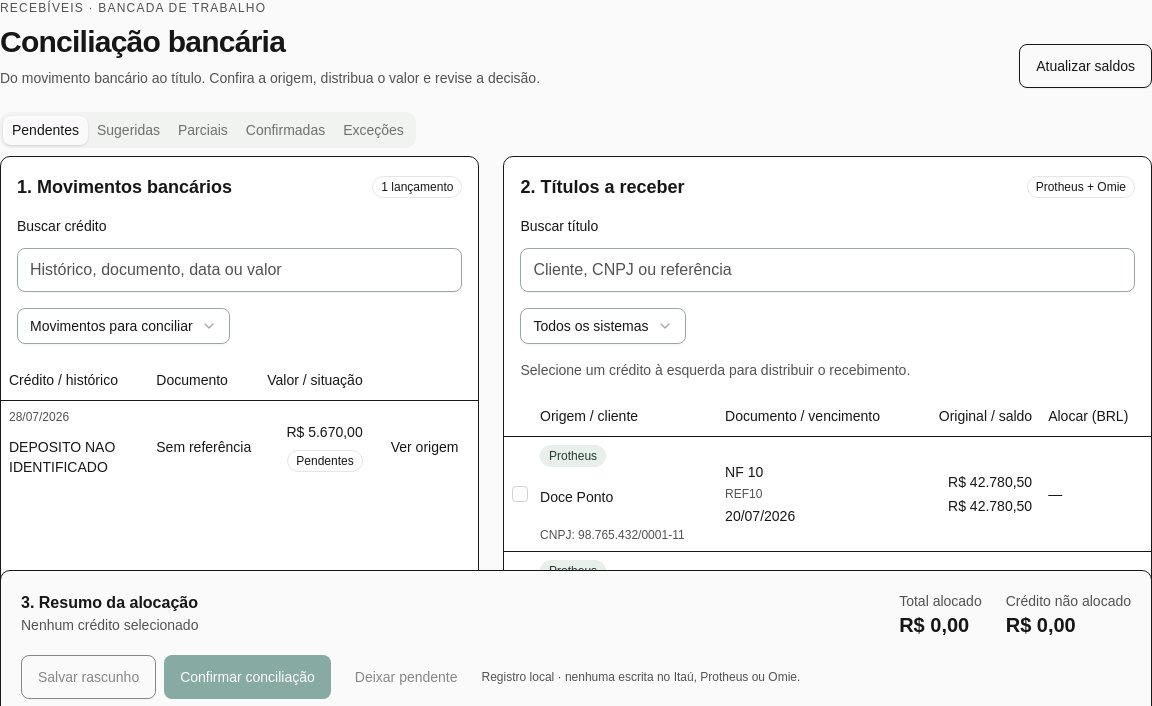
Test case: formats reconciliation details in pt-BR and preserves original evidence
Press the mouse on the tab "Sugeridas" at (128, 130), box [88, 116, 169, 144]
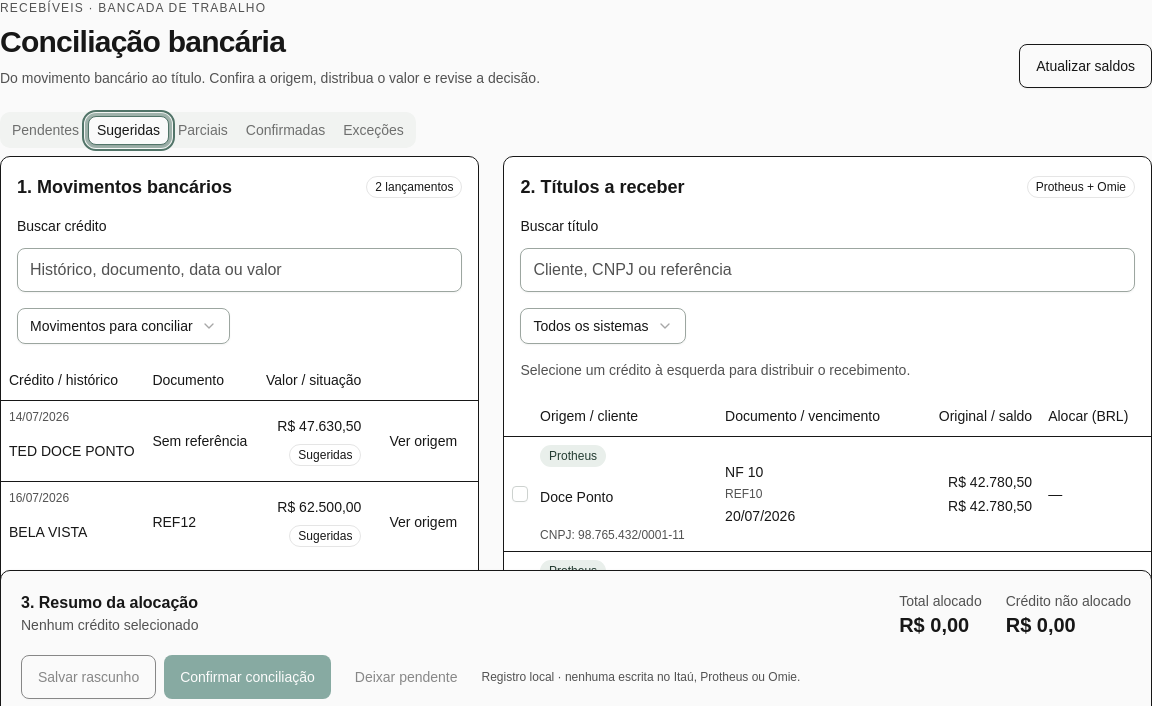
Click the button with aria-label "Detalhes de TED DOCE PONTO" at (423, 441), box [377, 419, 469, 463]
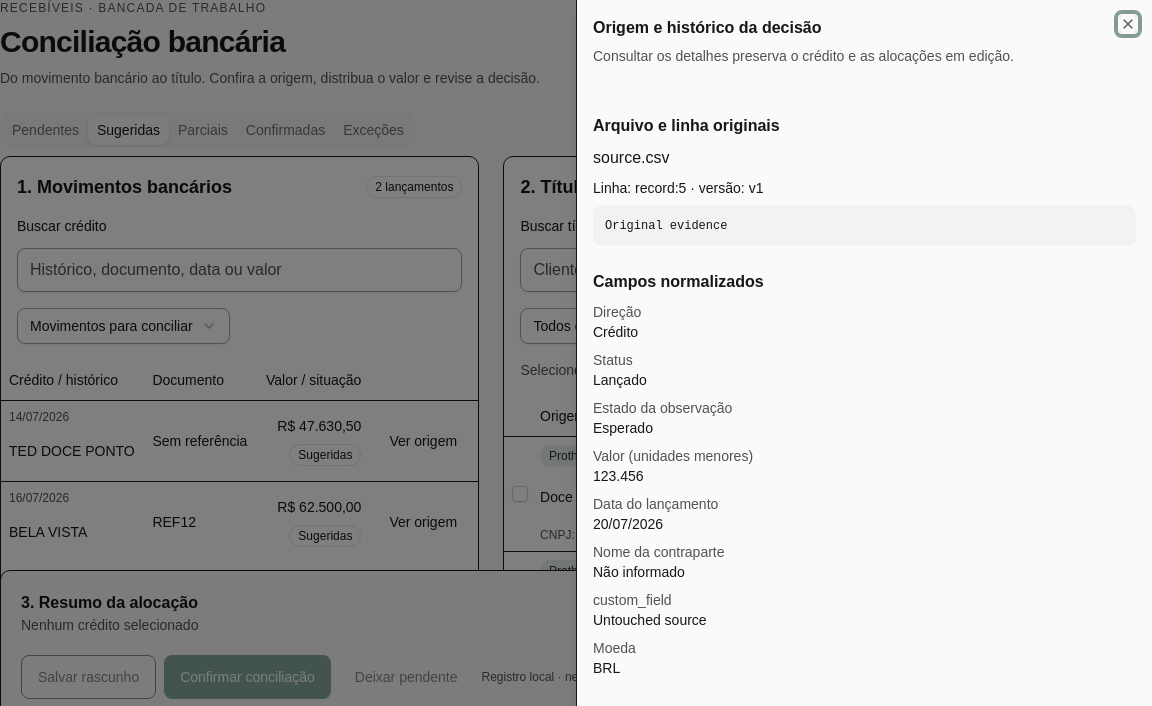
expect the text "Original evidence" is shown: met, box [593, 206, 1136, 246]
expect the text "Crédito" is shown: met, box [593, 324, 638, 340]
expect the text "Lançado" is shown: met, box [593, 372, 647, 388]
